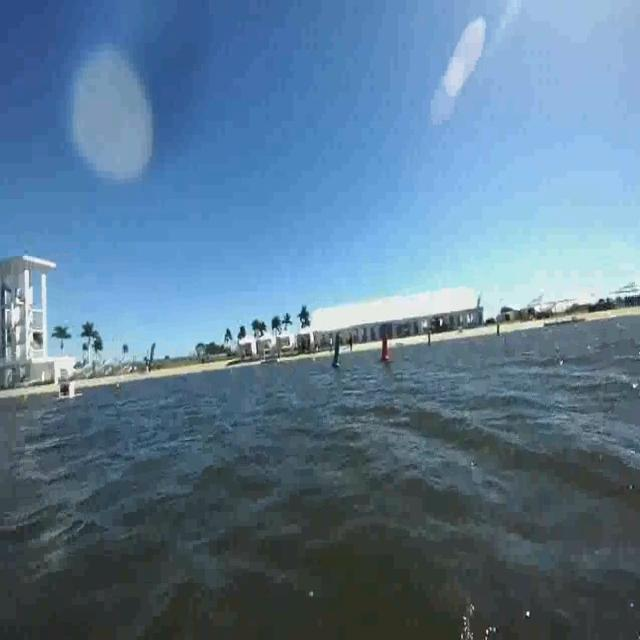green-column-buoy: (332, 333, 344, 369)
red-column-buoy: (381, 334, 392, 366)
